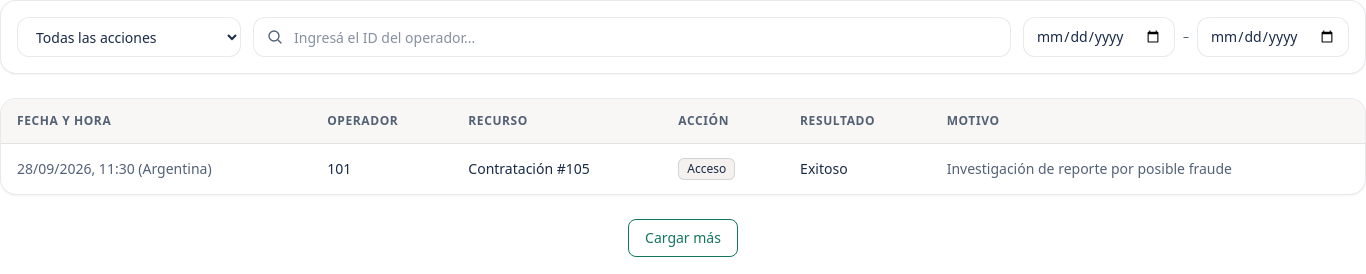
AuditConsolePage › loads and appends the next cursor page
The width and height of the screenshot is (1366, 274).
Click the button "Cargar más" at (683, 238), box x1=628 y1=219 x2=738 y2=257
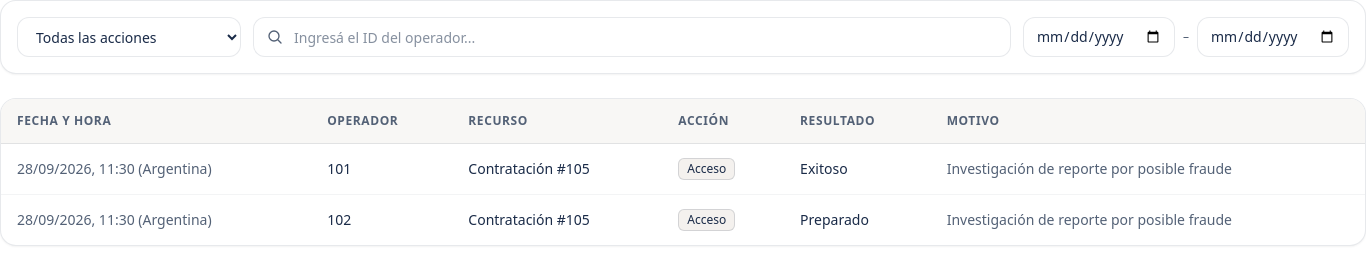
expect the number of rows is 3: met, box x1=1 y1=99 x2=1365 y2=144; x1=1 y1=144 x2=1365 y2=194; x1=1 y1=194 x2=1365 y2=245
expect the text "102" is shown: met, box x1=311 y1=194 x2=452 y2=245
expect the button "Cargar más" is gone: met
